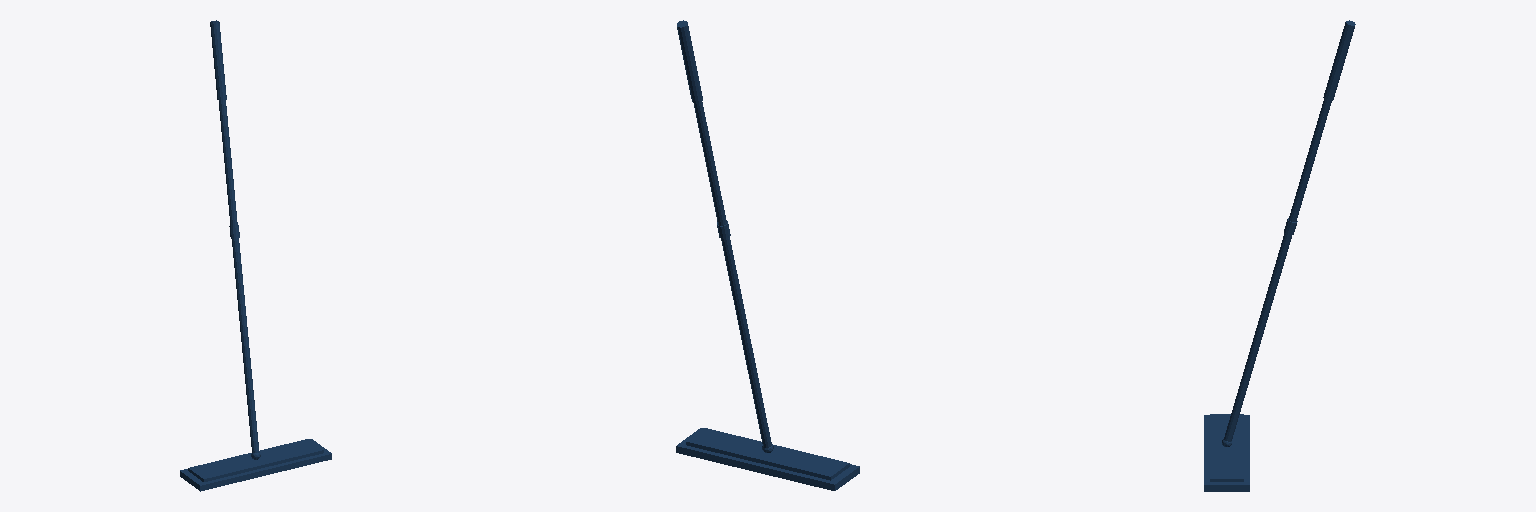
URDF robot description (nova_environment_object_0029):
<?xml version="1.0" encoding="utf-8"?>
<!-- Nova movable environment body for the bundled PyBullet launcher. SI metres/kg/radians. Loaded at its body origin; hinge/slider bodies use a fixed world_anchor base with one passive joint. Inertia is about COM. -->
<robot name="nova_environment_object_0029">
  <link name="body">
    <inertial>
      <origin xyz="0.01 0.05 0.3" rpy="0 0 0" />
      <mass value="1.1" />
      <inertia ixx="0.04125" iyy="0.0507466667" izz="0.0259966667" ixy="0" ixz="0" iyz="0" />
    </inertial>
    <visual>
      <origin xyz="0 0 0" rpy="0 0 0" />
      <geometry>
        <mesh filename="object_0029.obj" />
      </geometry>
      <material name="surface">
        <color rgba="0.17 0.29 0.42 1" />
      </material>
    </visual>
    <collision>
      <origin xyz="0 0 0" rpy="0 0 0" />
      <geometry>
        <mesh filename="object_0029_collision_00.obj" />
      </geometry>
    </collision>
    <collision>
      <origin xyz="0 0 0" rpy="0 0 0" />
      <geometry>
        <mesh filename="object_0029_collision_01.obj" />
      </geometry>
    </collision>
    <collision>
      <origin xyz="0 0 0" rpy="0 0 0" />
      <geometry>
        <mesh filename="object_0029_collision_02.obj" />
      </geometry>
    </collision>
  </link>
</robot>

--- What the picture shows (computed from the rendered views, not written in the file) ---
Views: 3 orthographic renders of the robot side by side, from view 1: azimuth 30°, elevation 25°; view 2: azimuth 150°, elevation 25°; view 3: azimuth 270°, elevation 25°.
Model nova_environment_object_0029 with 1 links and 0 joints (none), rooted at body, posed all joints at 0.
Visible links, largest first — view 1: body; view 2: body; view 3: body.
Link boxes in pixels (<box>): body: <box>180,20,331,491</box>; body: <box>676,20,859,490</box>; body: <box>1204,20,1355,491</box>.
Bounding box of the posed robot: 0.44 × 0.3981 × 1.28 m (x, y, z).
1 mesh visuals loaded from 1 distinct referenced files (1 OBJ).
